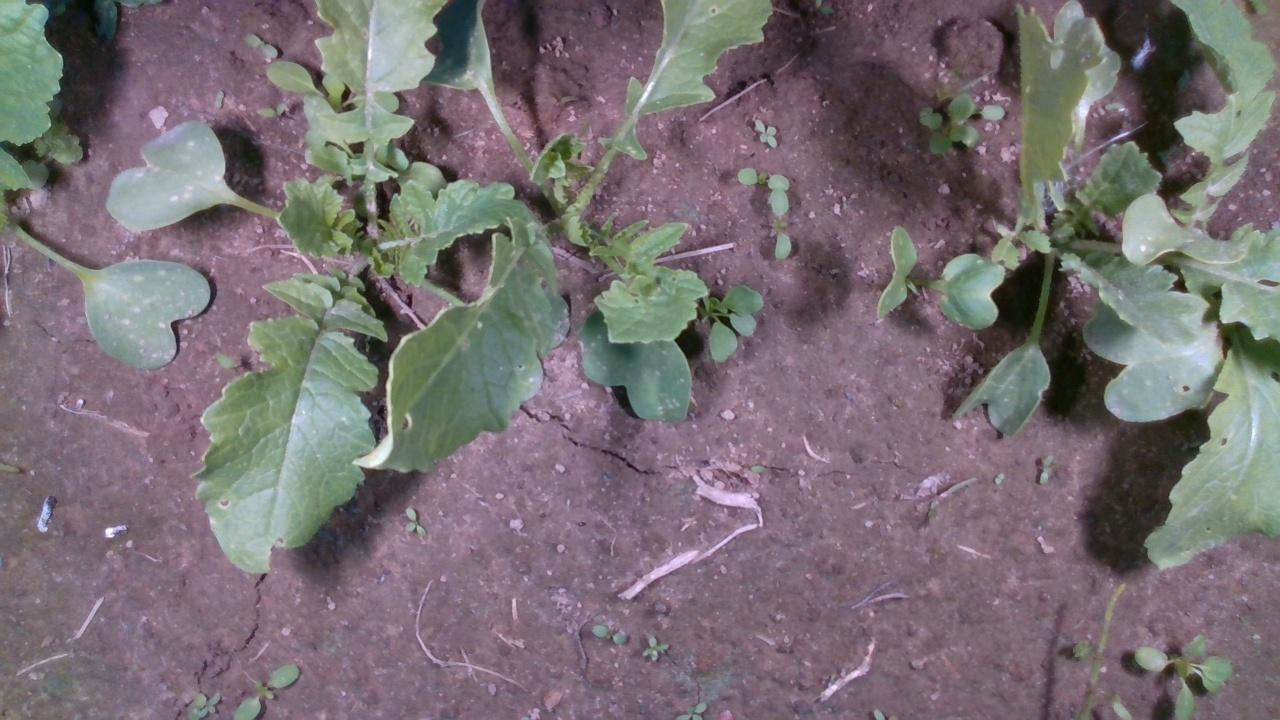weed: (241, 30, 278, 57), (640, 633, 670, 663), (402, 504, 429, 537), (752, 117, 778, 149), (590, 623, 629, 644), (1036, 452, 1054, 485), (212, 87, 225, 108), (992, 470, 1004, 485)
